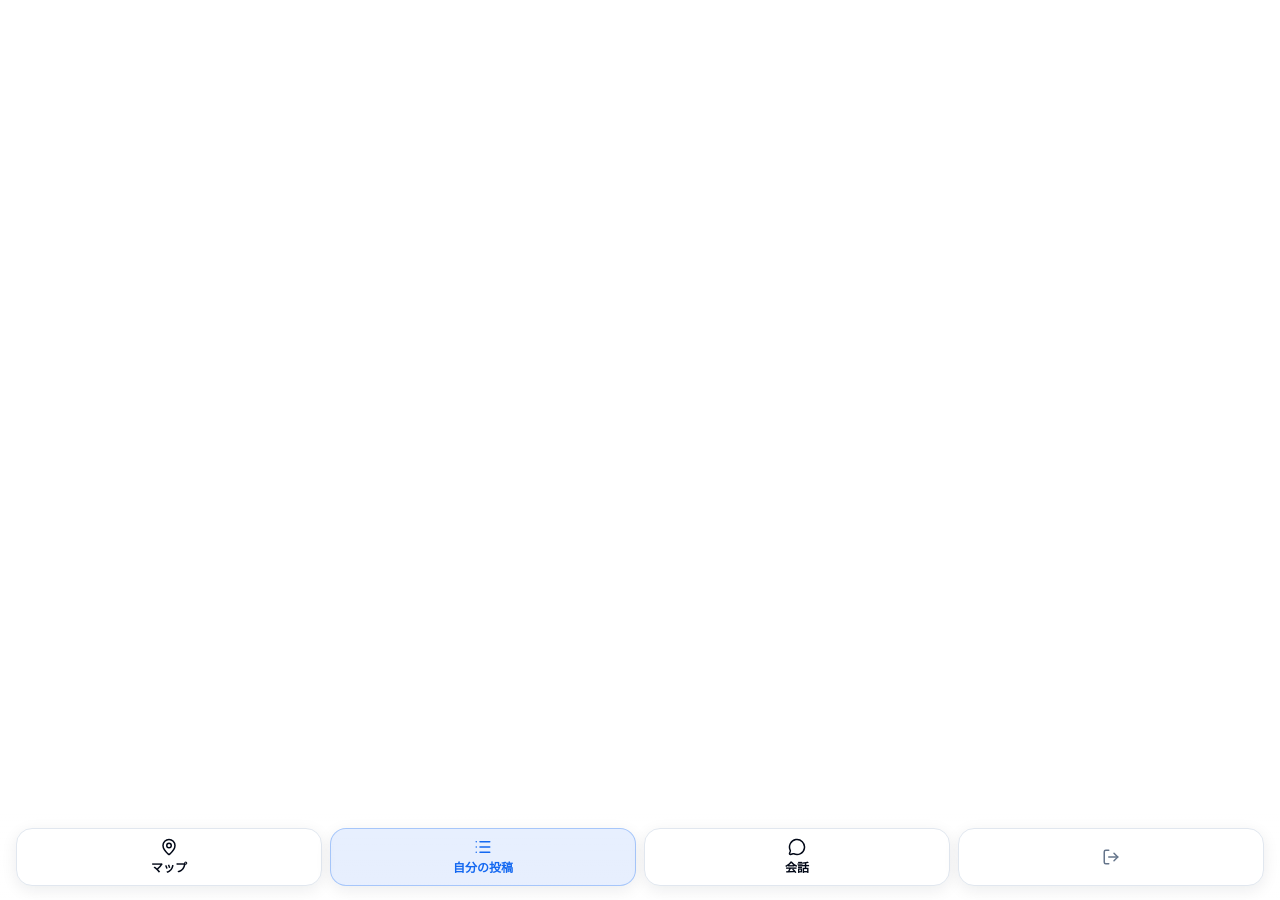
Test: BottomNav › ログアウト › ログアウトアイコンをクリックした時、確認ダイアログが表示されること
Click the button named "ログアウト": (1111, 857) x1=958 y1=828 x2=1264 y2=886
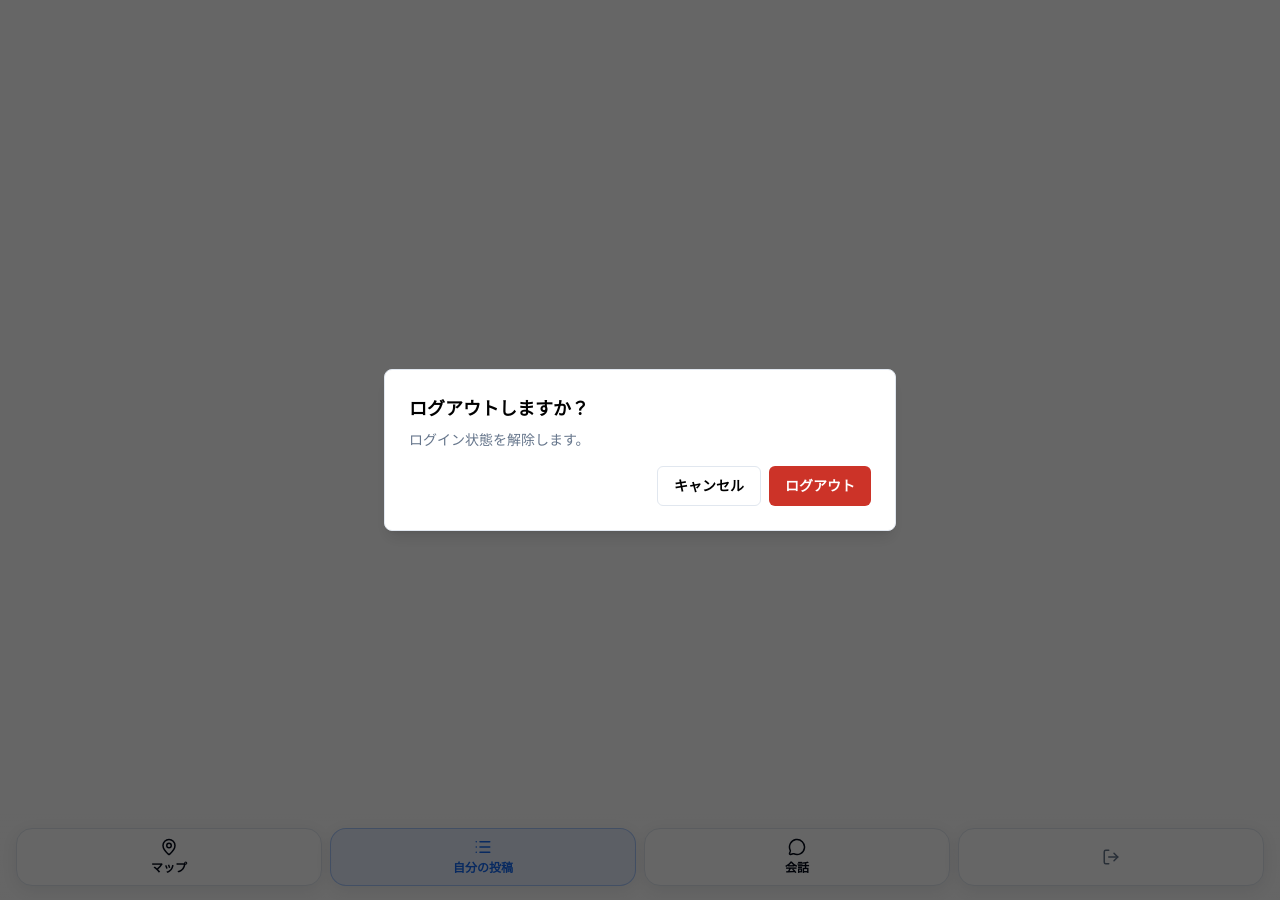
Now the dialog is shown, box x1=384 y1=369 x2=896 y2=531
Now the heading "ログアウトしますか？" is shown, box x1=409 y1=396 x2=589 y2=420
